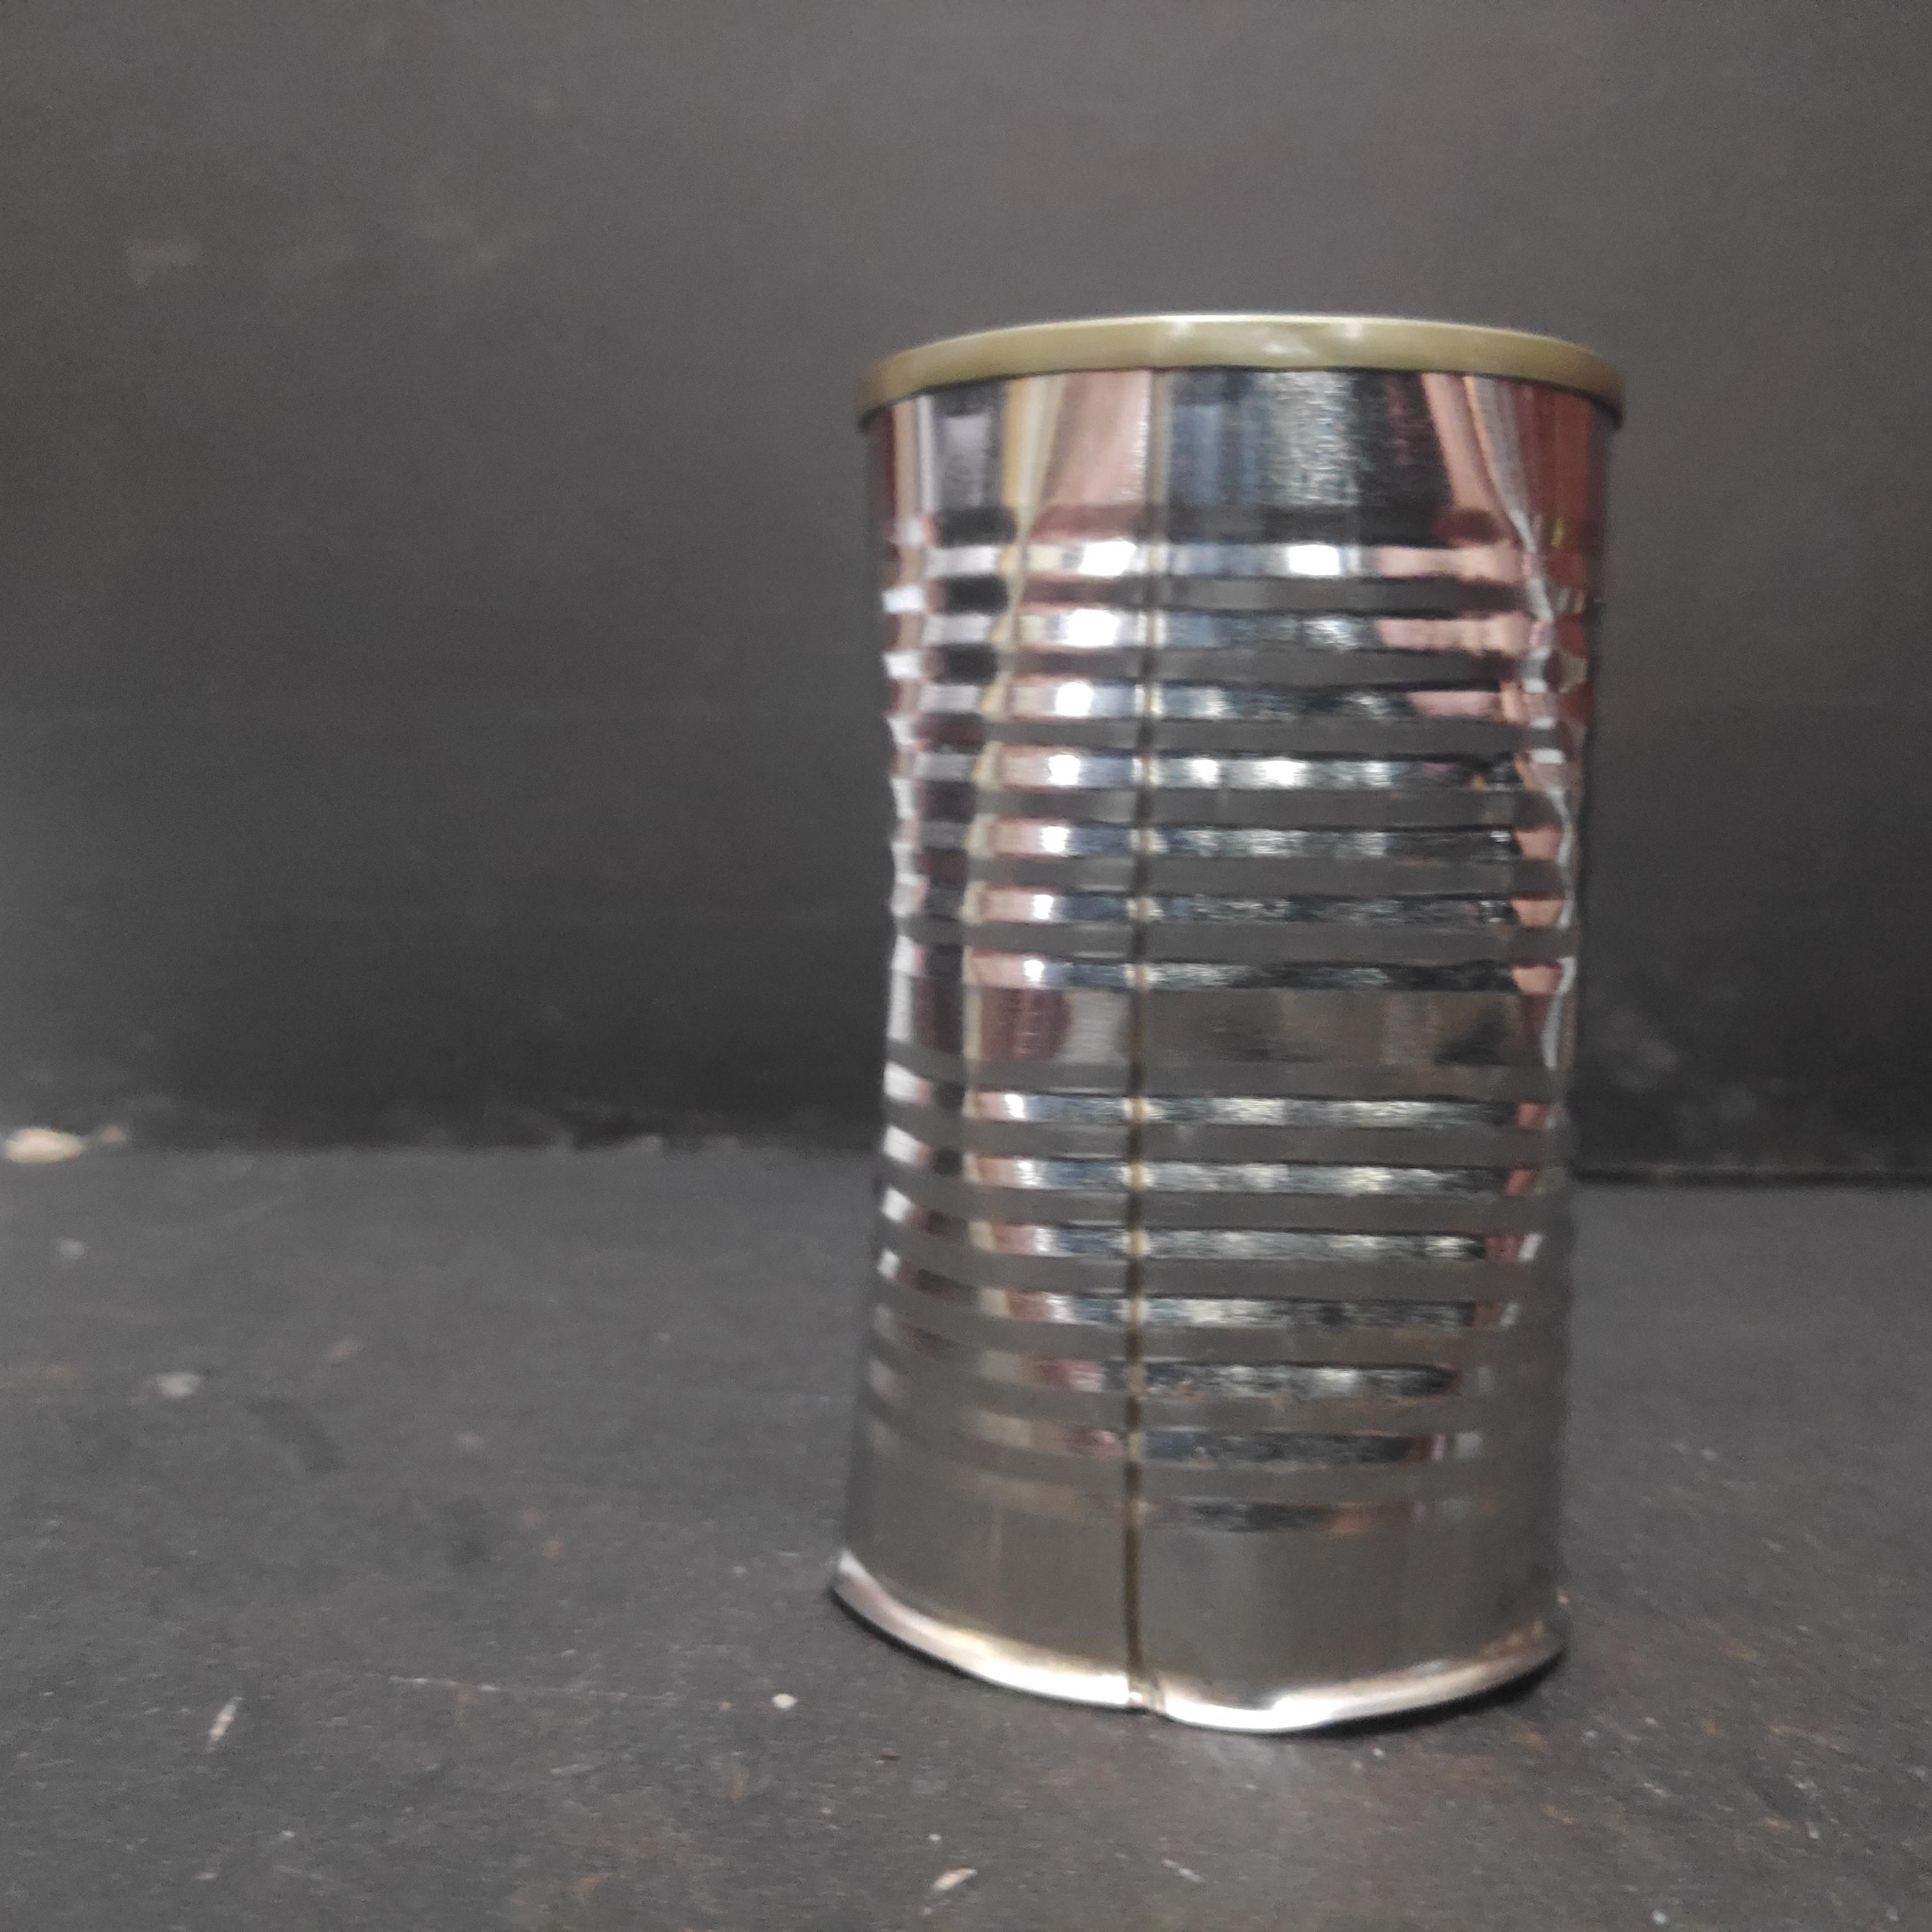Minor Defect: (841, 301, 1637, 1737)
